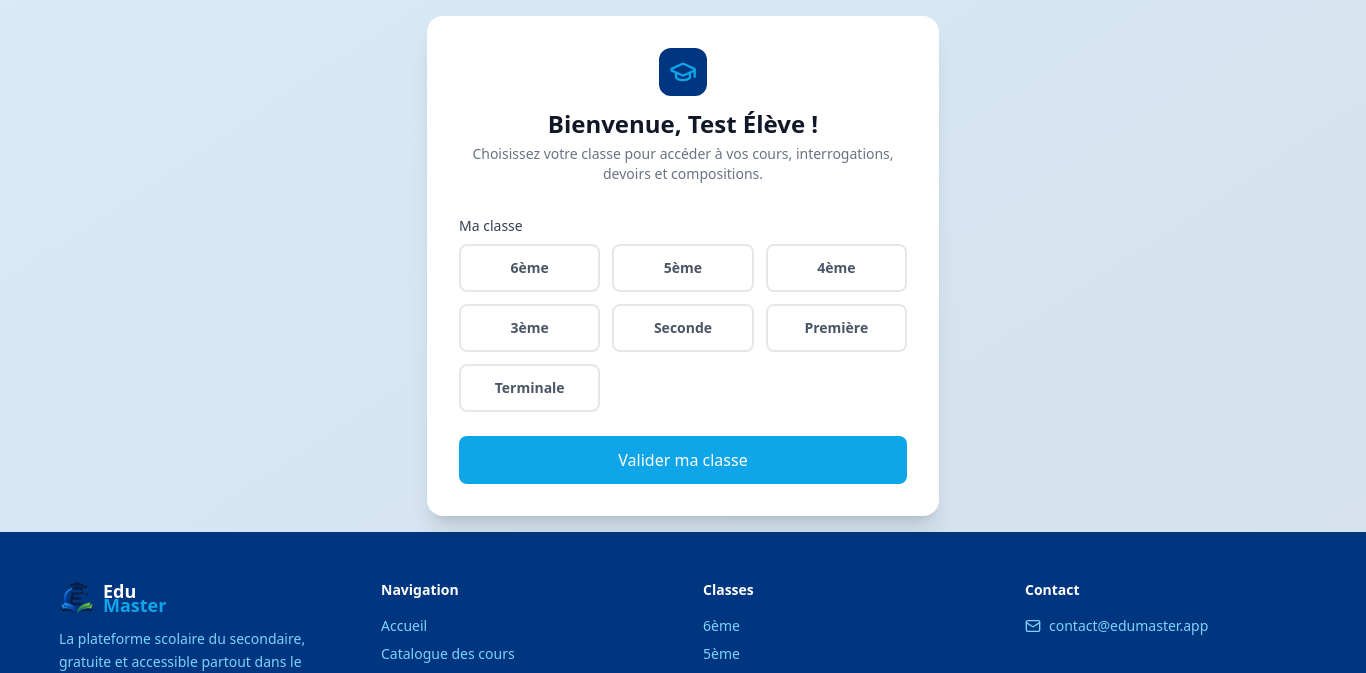
Scenario: ChooseClass › sélectionner une classe de collège masque le bloc série
Click the button "Terminale": (530, 388) [459,364,600,412]
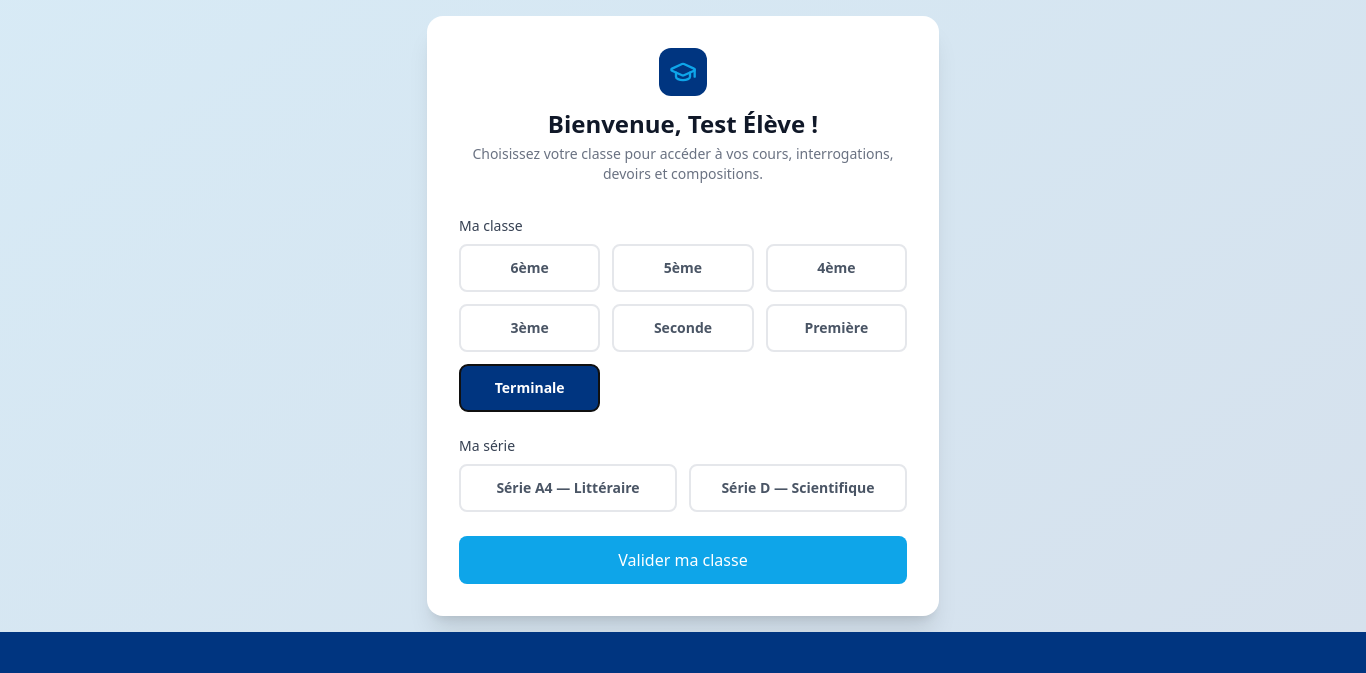
Check: the text "Ma série" is shown, box [459,436,515,455]
Click the button "6ème": (530, 268) [459,244,600,292]
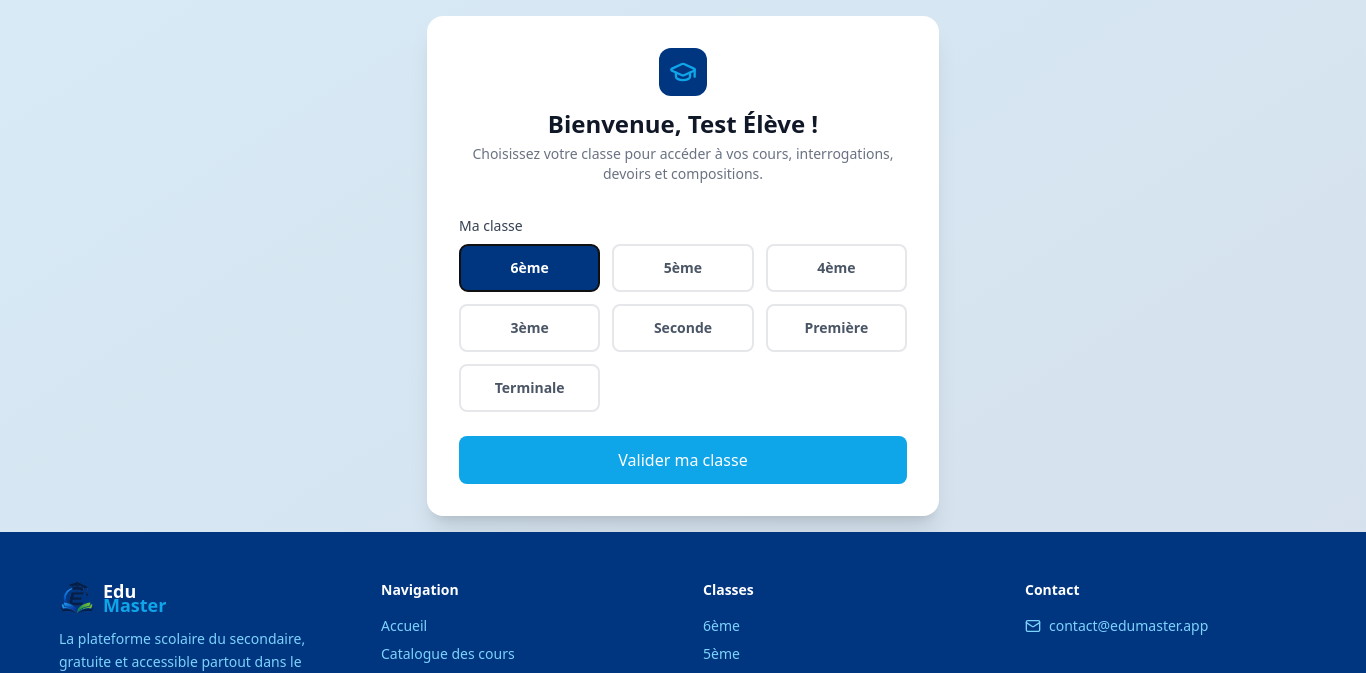
Check: the text "Ma série" is gone
